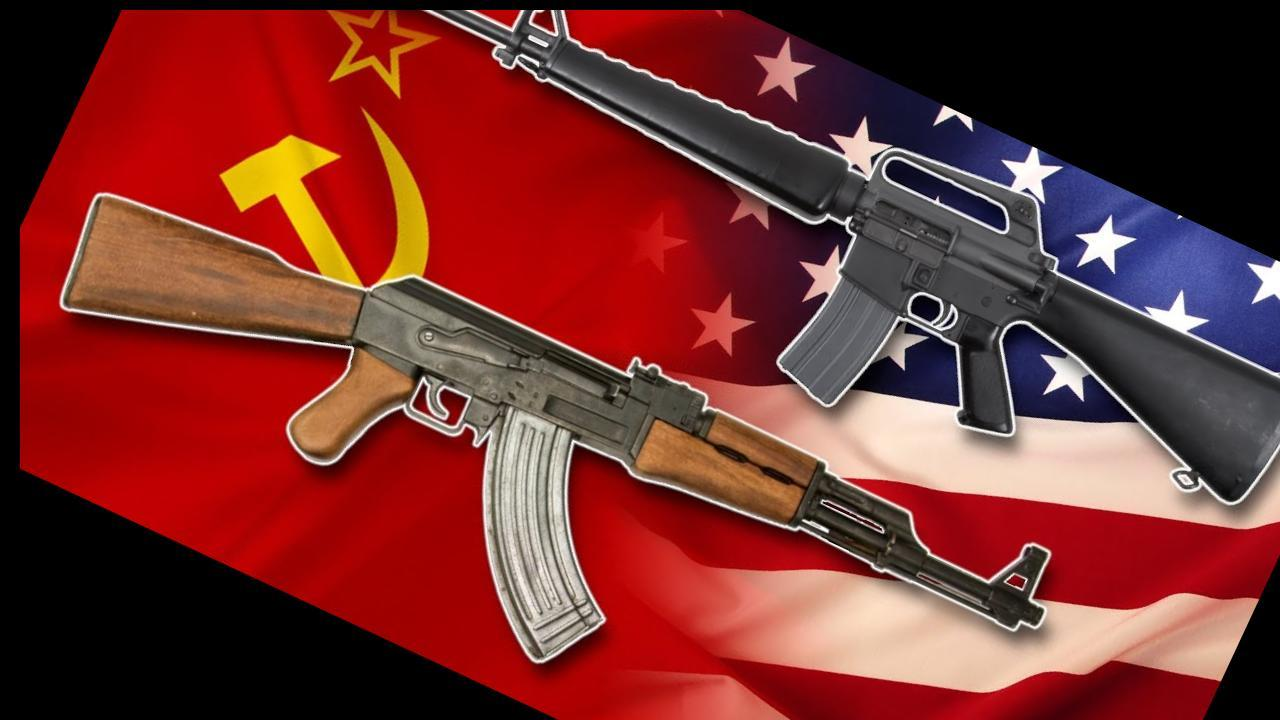larga: (61, 191, 1050, 662), (425, 7, 1280, 506)
